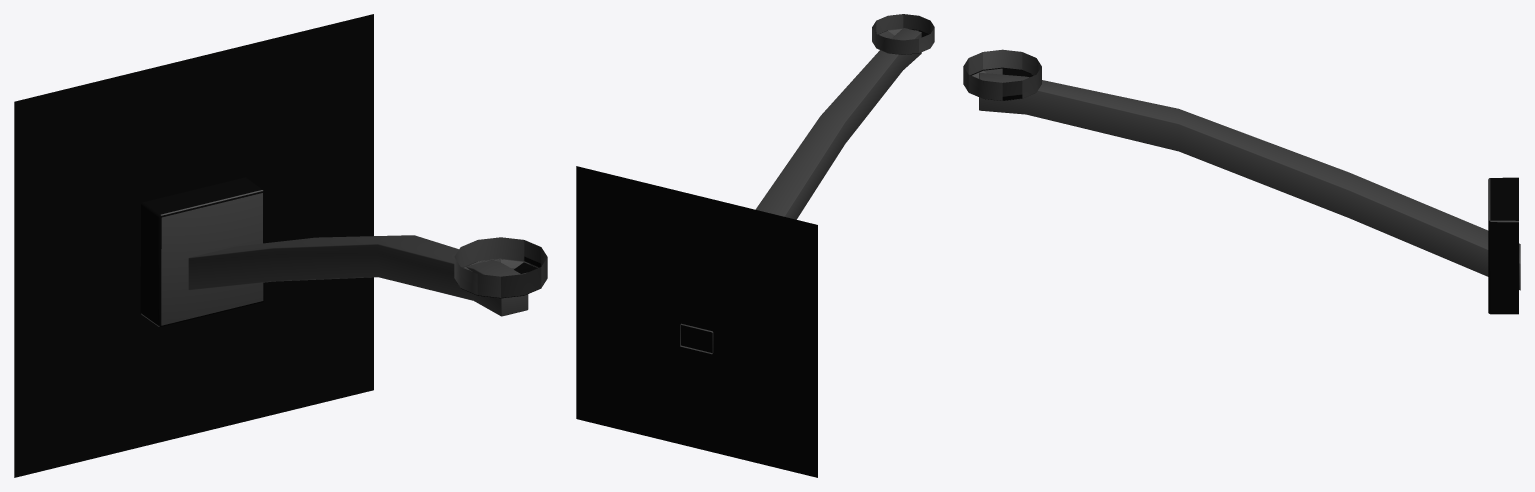
Rendered from soporte.obj.
3 views of the same model, side by side, from view 1: azimuth 30°, elevation 25°; view 2: azimuth 150°, elevation 25°; view 3: azimuth 270°, elevation 25° (orthographic). The views are drawn at different scales.
Parts seen in each view (by area): view 1: soporte:polySurface4; view 2: soporte:polySurface4; view 3: soporte:polySurface4.
Boxes of the visible parts, <box> form: soporte:polySurface4: <box>14,14,547,477</box>; soporte:polySurface4: <box>576,14,934,477</box>; soporte:polySurface4: <box>963,49,1520,314</box>.
Size of the model in its own units: 0.7511 by 0.8021 by 1.2.
Materials: 1 (1 with a texture image).
